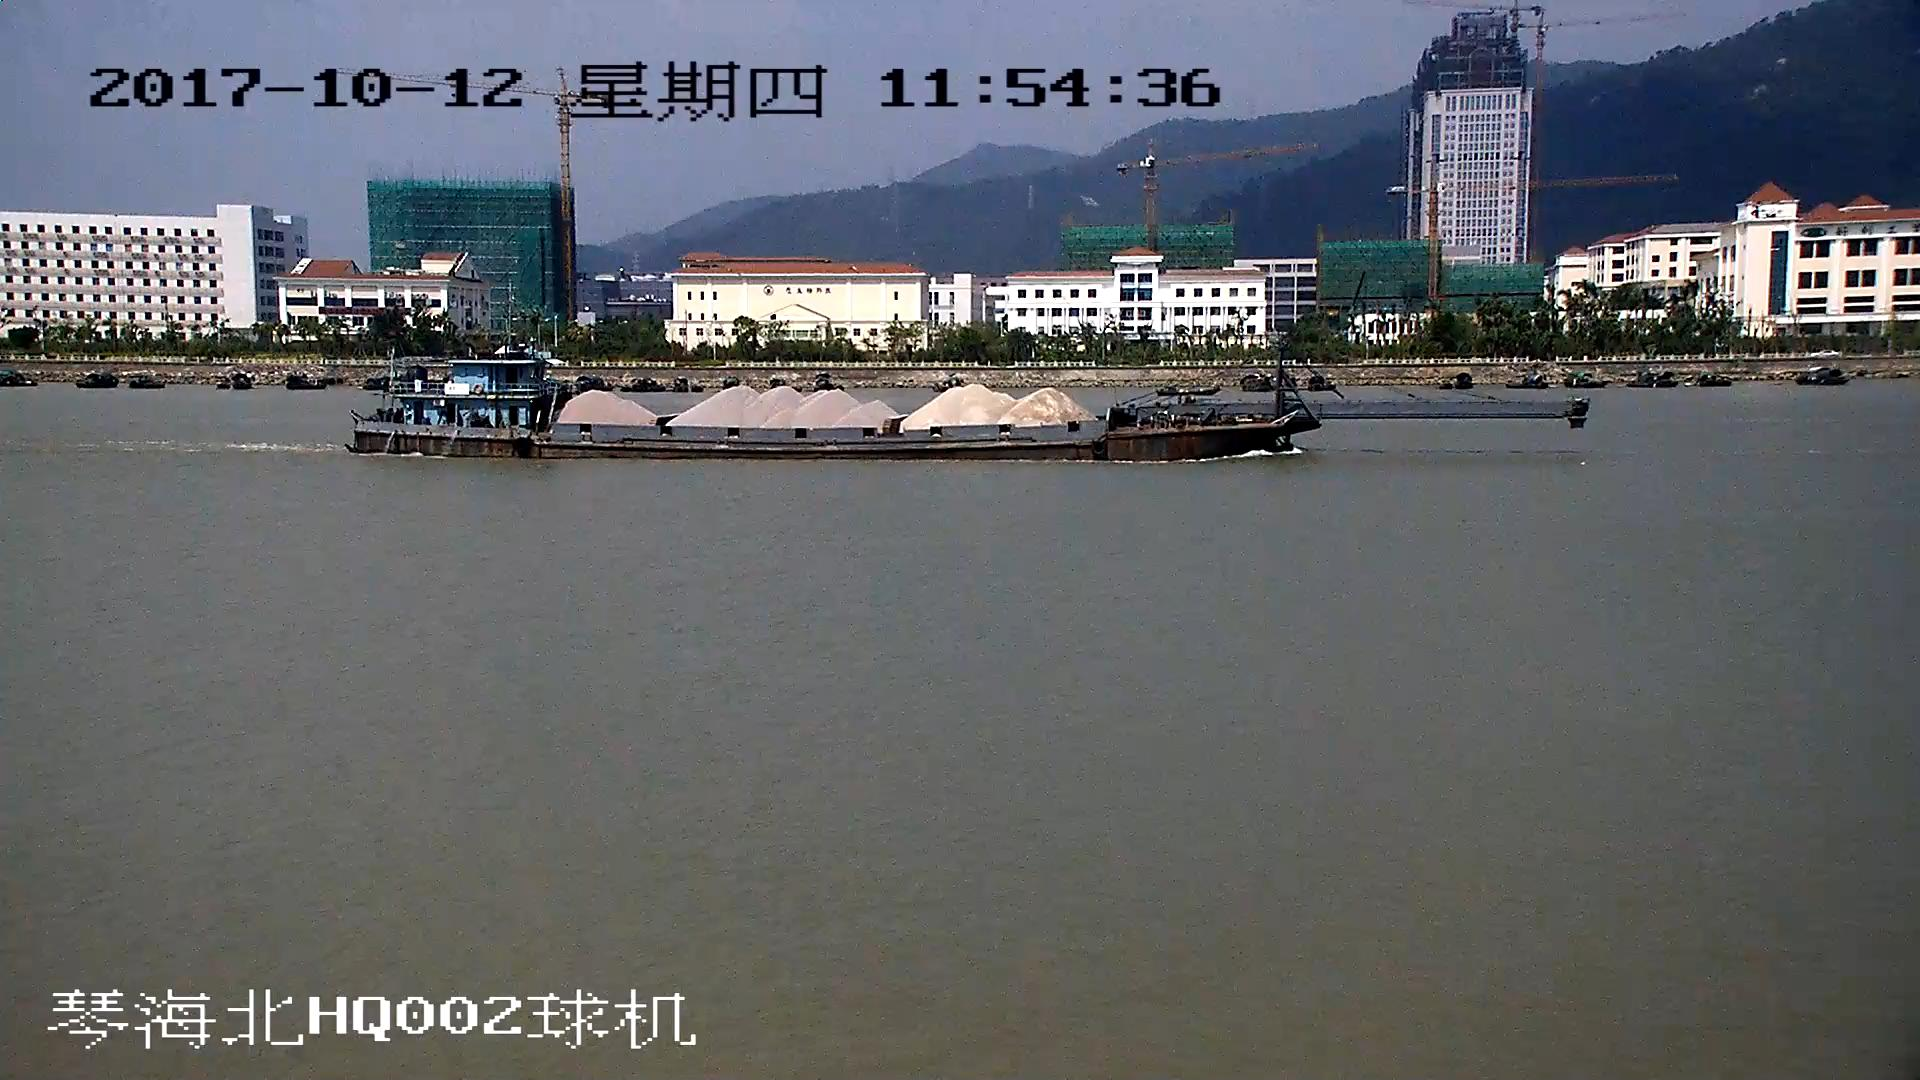ore carrier: (353, 340, 1587, 464)
